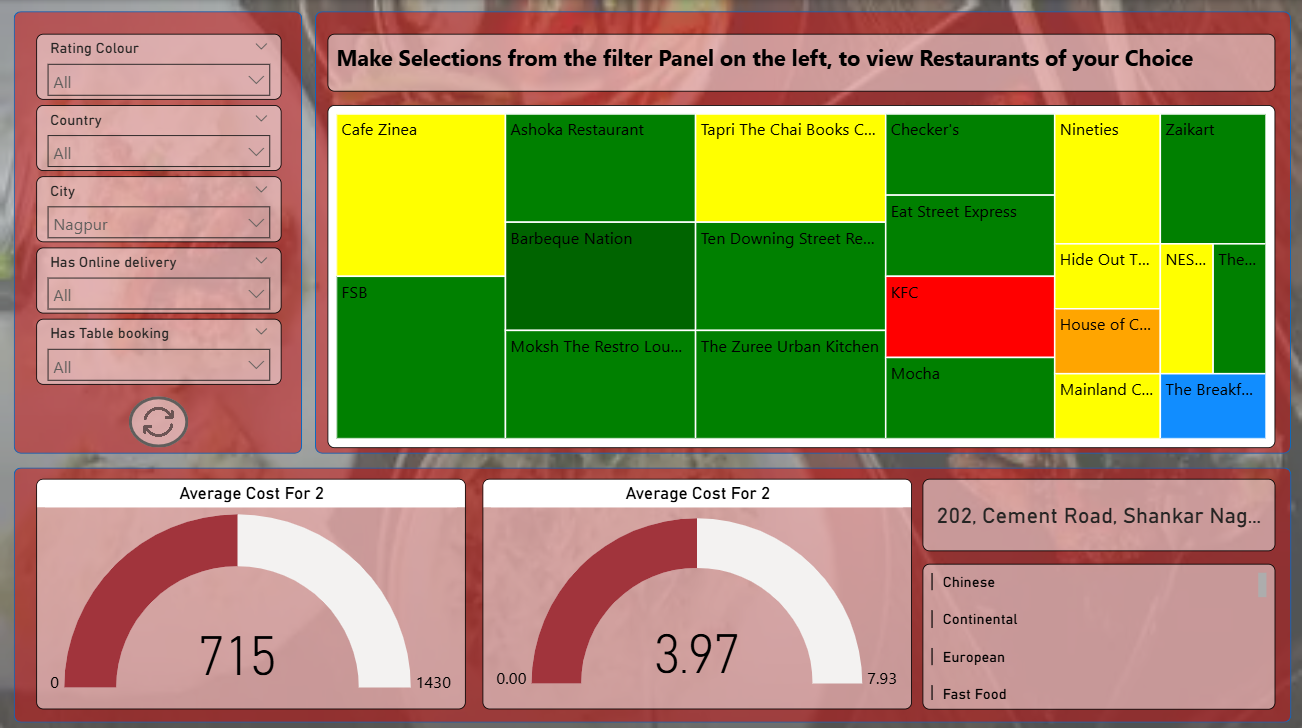

The page's visual inventory and layout, read from the dashboard file:
{"tool":"powerbi","page":{"name":"Restaurant Insights","canvas":[1280,720],"ordinal":1},"visuals":[{"type":"shape","box":[13,11.4,283,434.3],"z":0},{"type":"shape","box":[309,11.4,958,434.3],"z":1000},{"type":"shape","box":[13,458.7,1254.1,250.5],"z":2000},{"type":"slicer","fields":{"Values":["KPIs.Rating Colour"]},"box":[35.8,32.5,240.7,65.1],"z":3000},{"type":"actionButton","box":[126.9,388.7,58.6,50.4],"z":4000},{"type":"treemap","fields":{"Group":["Zomato Master Table.Restaurant Name"],"Values":["CountNonNull(Cuisines & Restaurant.Cuisines)"]},"box":[322.1,102.5,930.4,336.7],"z":5000},{"type":"slicer","fields":{"Values":["Zomato Master Table.Country"]},"box":[35.8,102.5,240.7,65],"z":6000},{"type":"slicer","fields":{"Values":["Zomato Master Table.City"]},"box":[35.8,172.4,240.7,65],"z":7000},{"type":"slicer","fields":{"Values":["KPIs.Has Online delivery"]},"box":[35.8,242.4,240.7,65],"z":8000},{"type":"slicer","fields":{"Values":["KPIs.Has Table booking"]},"box":[35.8,312.3,240.7,65],"z":9000},{"type":"gauge","title":"Average Cost For 2","fields":{"Y":["Measure.Average Cost For 2"]},"box":[35.8,470.1,421.3,226.1],"z":10000},{"type":"gauge","title":"Average Cost For 2","fields":{"Y":["Measure.Average Rating"]},"box":[473.3,470.1,421.3,226.1],"z":11000},{"type":"card","fields":{"Values":["Min(Zomato Master Table.Restaurant Address)"]},"box":[906,470.1,346.5,71.6],"z":12000},{"type":"multiRowCard","fields":{"Values":["Cuisines & Restaurant.Cuisines"]},"box":[906,553,346.5,143.1],"z":13000},{"type":"textbox","box":[322.1,32.5,930.4,56.9],"z":14000}]}

Visuals, with their boxes in screenshot pixels (x1, y1, x2, y2), scaled from the page's 1280x720 canvas onto the 1302x728 screenshot:
shape: box=[13, 12, 301, 451]
shape: box=[314, 12, 1289, 451]
shape: box=[13, 464, 1289, 717]
slicer - KPIs.Rating Colour: box=[36, 33, 281, 99]
actionButton: box=[129, 393, 189, 444]
treemap - Zomato Master Table.Restaurant Name x CountNonNull(Cuisines & Restaurant.Cuisines): box=[328, 104, 1274, 444]
slicer - Zomato Master Table.Country: box=[36, 104, 281, 169]
slicer - Zomato Master Table.City: box=[36, 174, 281, 240]
slicer - KPIs.Has Online delivery: box=[36, 245, 281, 311]
slicer - KPIs.Has Table booking: box=[36, 316, 281, 381]
"Average Cost For 2" gauge: box=[36, 475, 465, 704]
"Average Cost For 2" gauge: box=[481, 475, 910, 704]
card - Min(Zomato Master Table.Restaurant Address): box=[922, 475, 1274, 548]
multiRowCard - Cuisines & Restaurant.Cuisines: box=[922, 559, 1274, 704]
textbox: box=[328, 33, 1274, 90]
